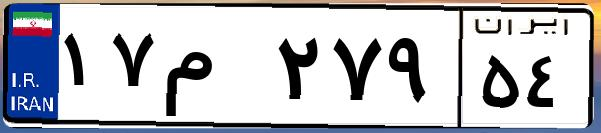1: (57, 26, 110, 100)
2: (270, 28, 330, 110)
4: (525, 38, 570, 115)
5: (475, 38, 525, 113)
7: (330, 28, 385, 110), (110, 28, 158, 98)
9: (385, 28, 445, 110)
م: (158, 20, 270, 120)
